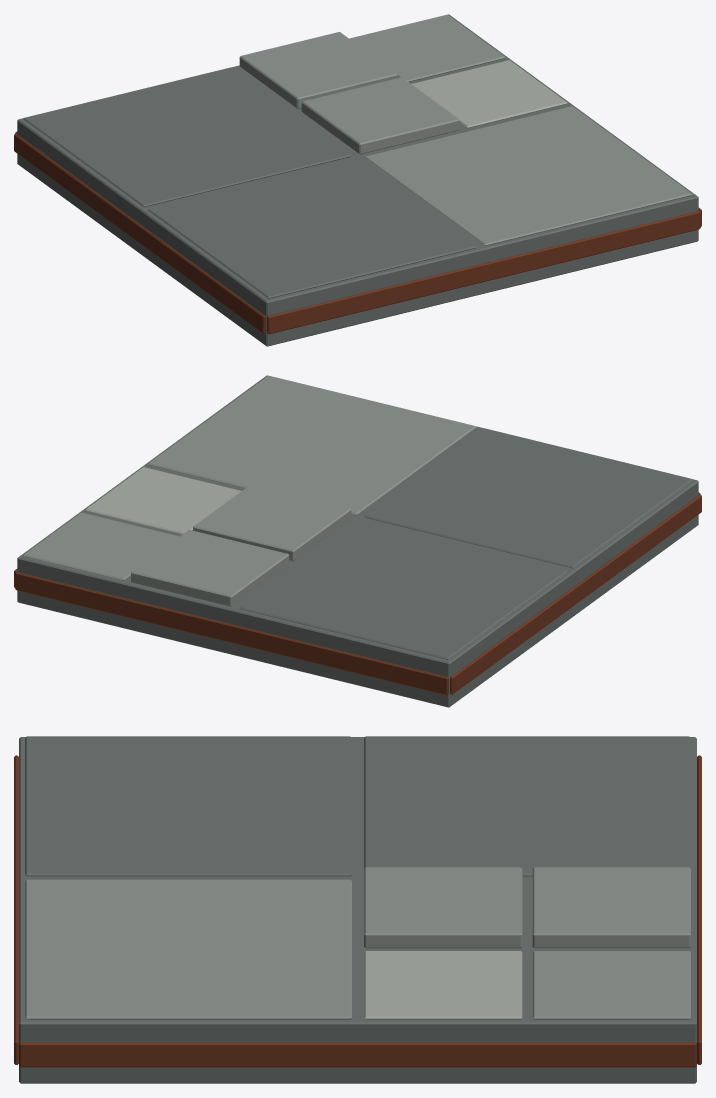
Rendered from RUIN_BLK_Slab_4.glb.
The picture shows the model from 3 angles, top to bottom: view 1: azimuth 30°, elevation 25°; view 2: azimuth 150°, elevation 25°; view 3: azimuth 270°, elevation 25°; orthographic projection. The views are drawn at different scales.
Parts seen in each view (by area): view 1: RUIN_BLK_Slab_4; view 2: RUIN_BLK_Slab_4; view 3: RUIN_BLK_Slab_4.
Boxes of the visible parts, box(x1,y1,x2,y2) form: RUIN_BLK_Slab_4: box(14, 14, 701, 346); RUIN_BLK_Slab_4: box(14, 375, 701, 707); RUIN_BLK_Slab_4: box(14, 736, 701, 1083).
Bounding box in the file's own units: 4.06 × 0.5 × 4.06.
